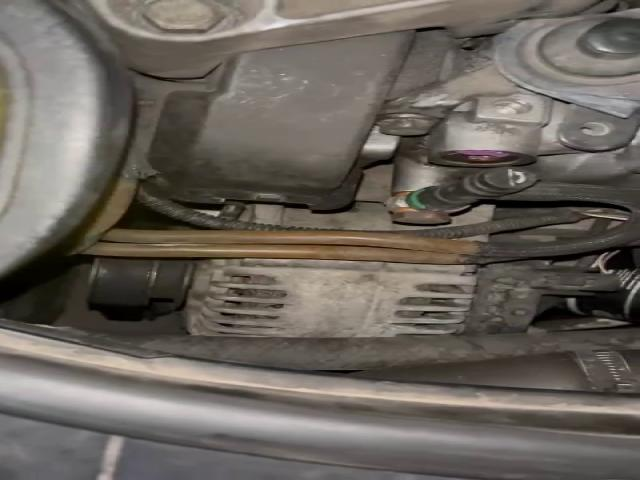alternator: (186, 259, 477, 338)
high_pressure_pump: (382, 9, 640, 166)
